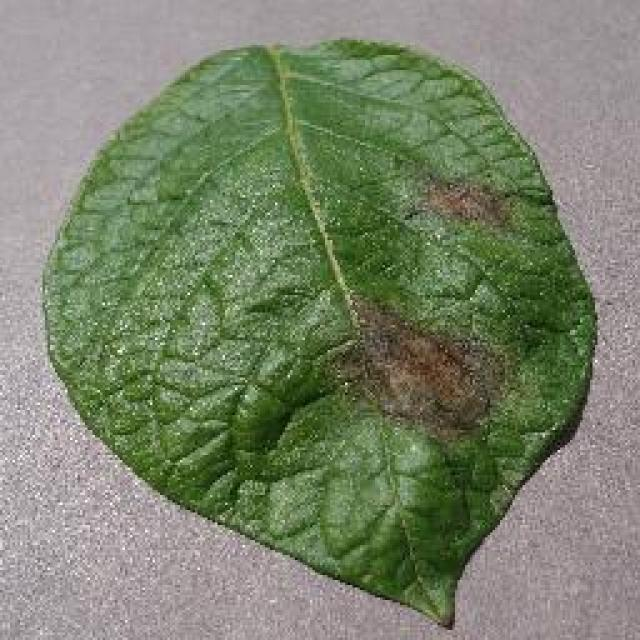Potato___Late_blight: (39, 38, 601, 632)
